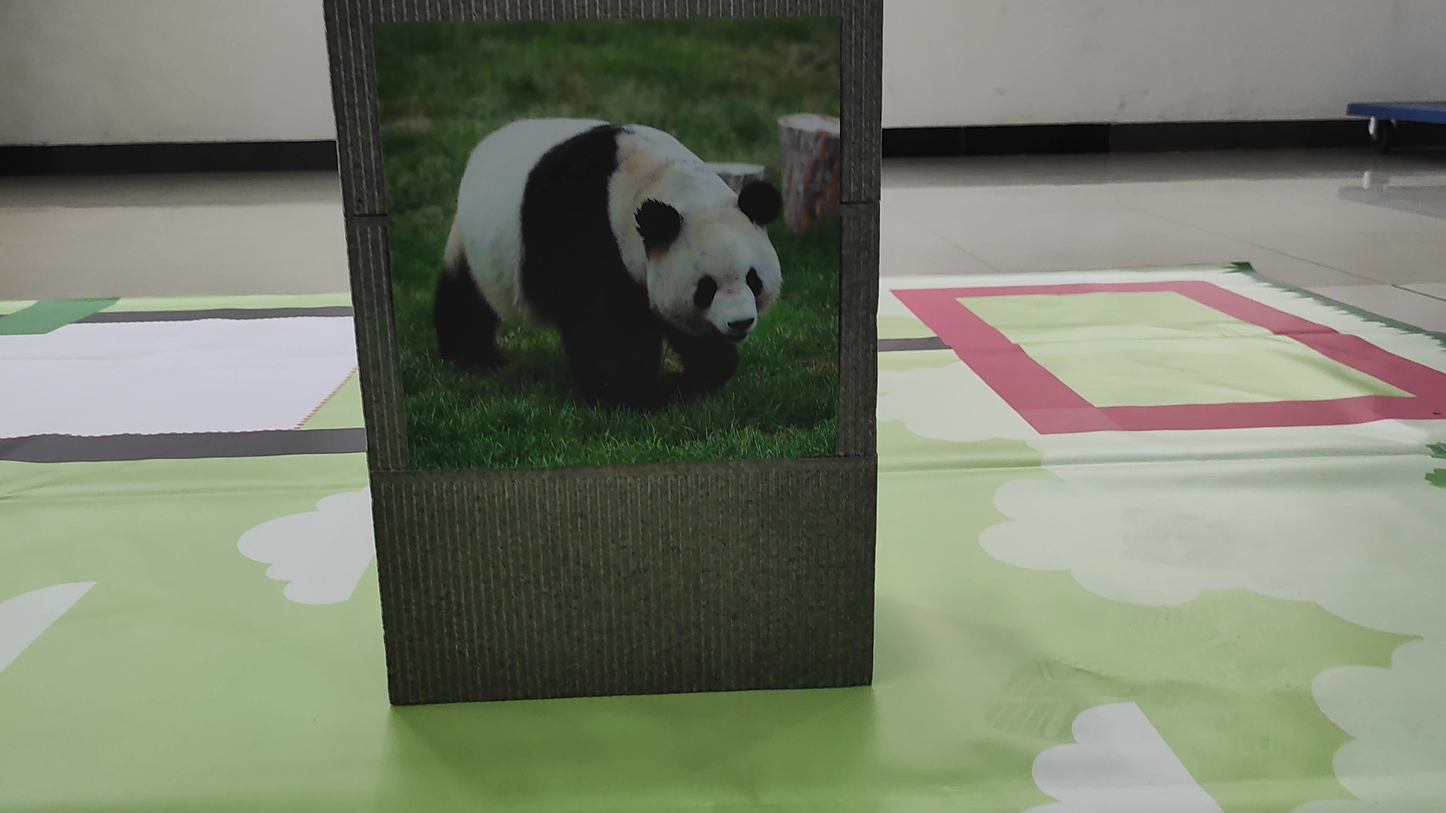panda: (349, 87, 781, 448)
